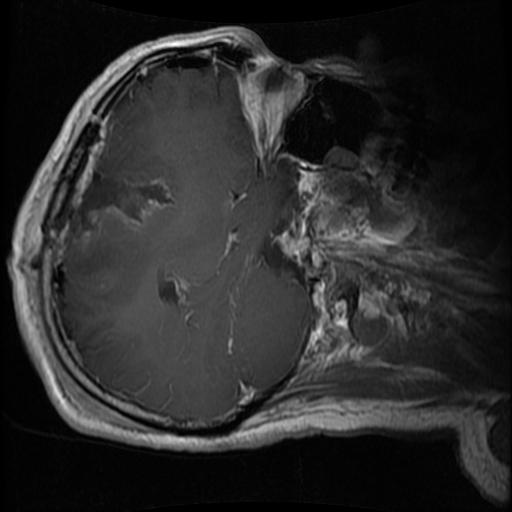glioma: (69, 169, 174, 241)
